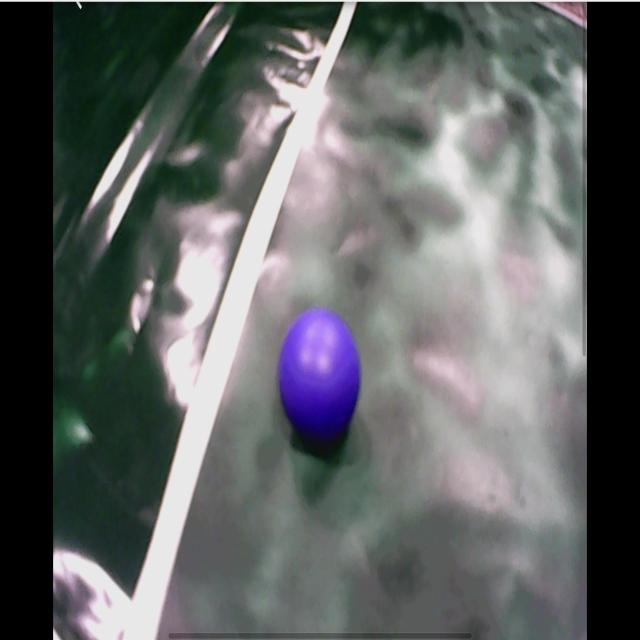ball: (278, 309, 362, 433)
